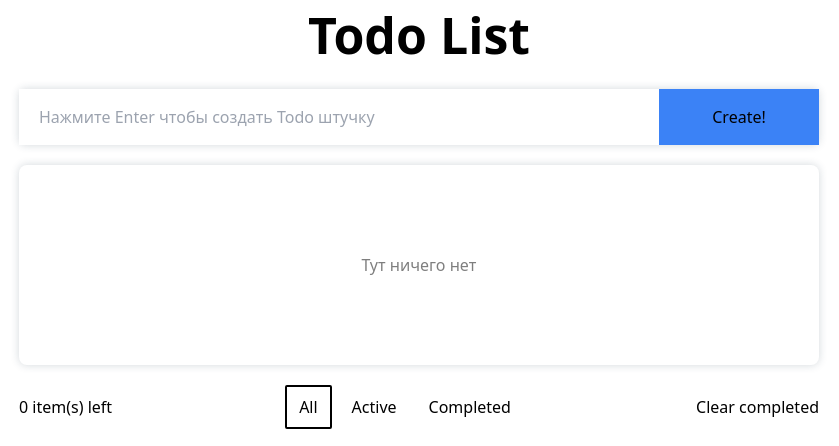
Test case: add todo item
The image size is (839, 446).
Симулирую ввод текста и нажатие кнопки
Step 1. Type "Existing Task" into the field with test id "todo-input" → {"x": 339, "y": 117}, box [19,89,659,145]
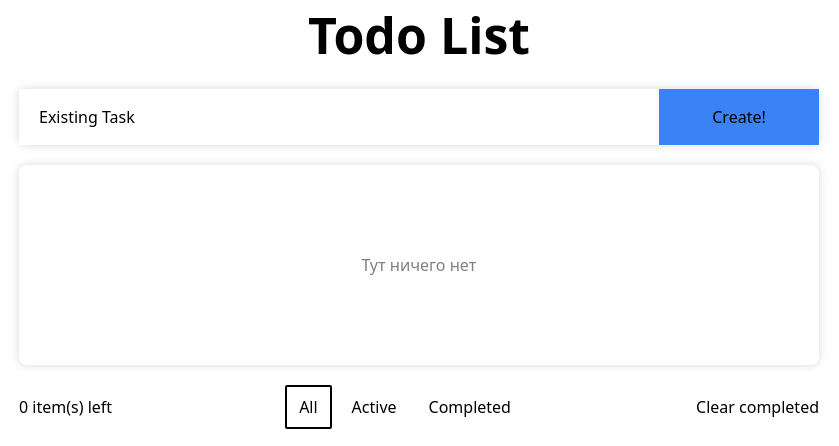
Step 2. Click the button with test id "add-button" → {"x": 739, "y": 117}, box [659,89,819,145]
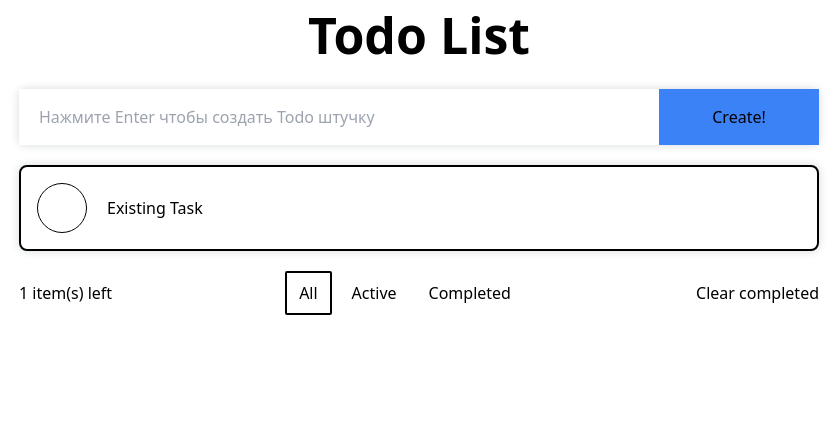
Now the text "Existing Task" is shown, box [107,196,203,220]
